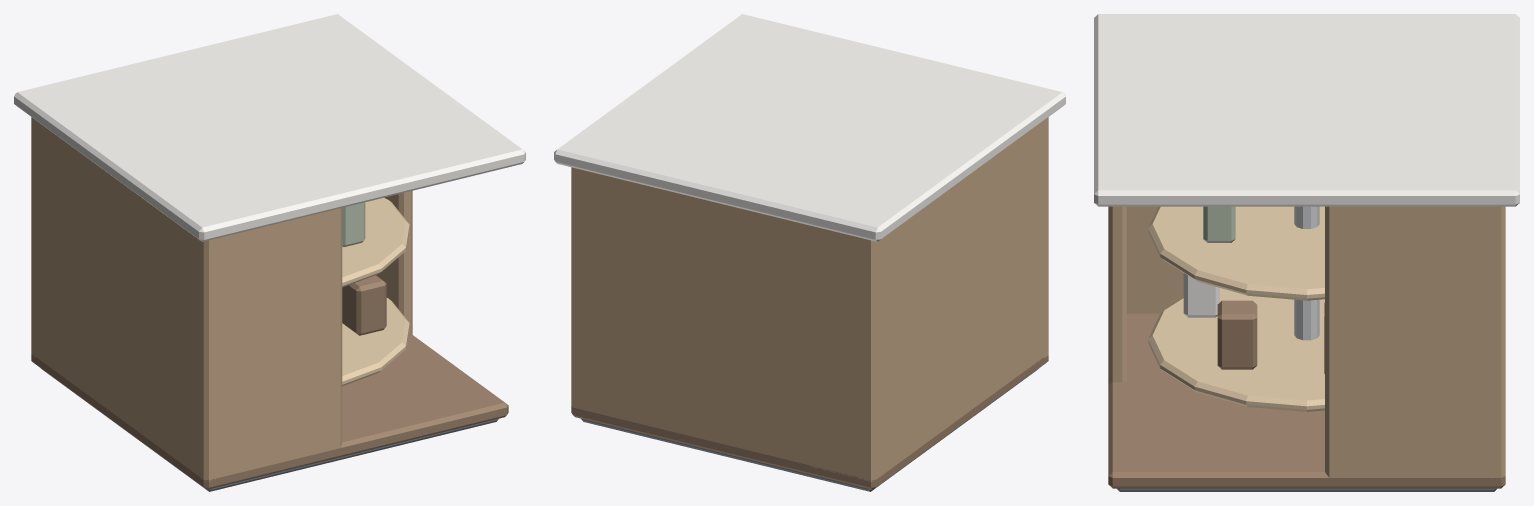
The model's file is CornerCarousel.glb.
3 renders of one model, left to right at view 1: azimuth 30°, elevation 25°; view 2: azimuth 150°, elevation 25°; view 3: azimuth 270°, elevation 25°, orthographic. The views are drawn at different scales.
Visible parts, largest first — view 1: CornerCarousel_Carcass, CornerCarousel_Turntable; view 2: CornerCarousel_Carcass; view 3: CornerCarousel_Carcass, CornerCarousel_Turntable.
Boxes of the visible parts, x1,y1,x2,y2 form: CornerCarousel_Carcass: (14,14,525,491); CornerCarousel_Turntable: (342,198,409,385); CornerCarousel_Carcass: (554,14,1065,491); CornerCarousel_Carcass: (1094,14,1519,491); CornerCarousel_Turntable: (1148,206,1324,411).
Size of the model in its own units: 1.18 by 0.95 by 1.18.
